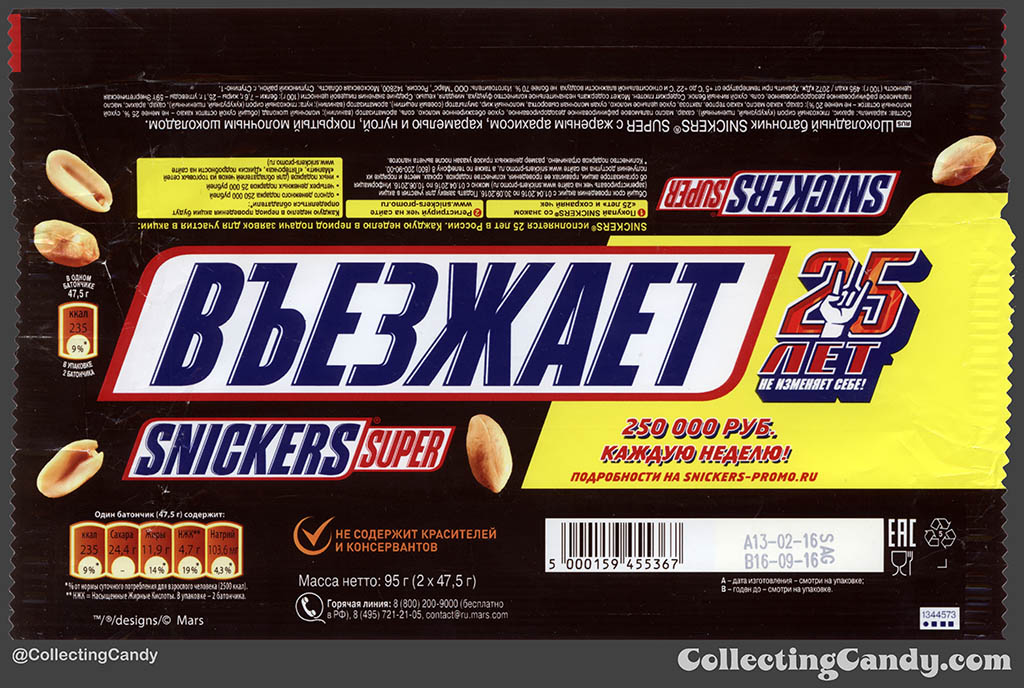snickers: (132, 424, 360, 475)
